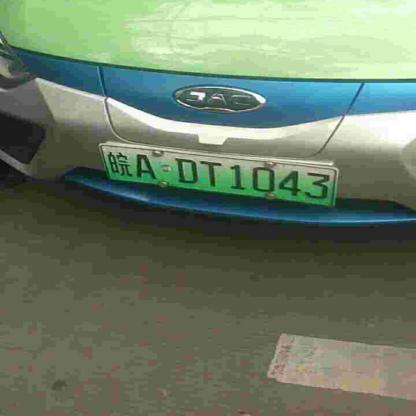lp: (101, 144, 336, 206)
